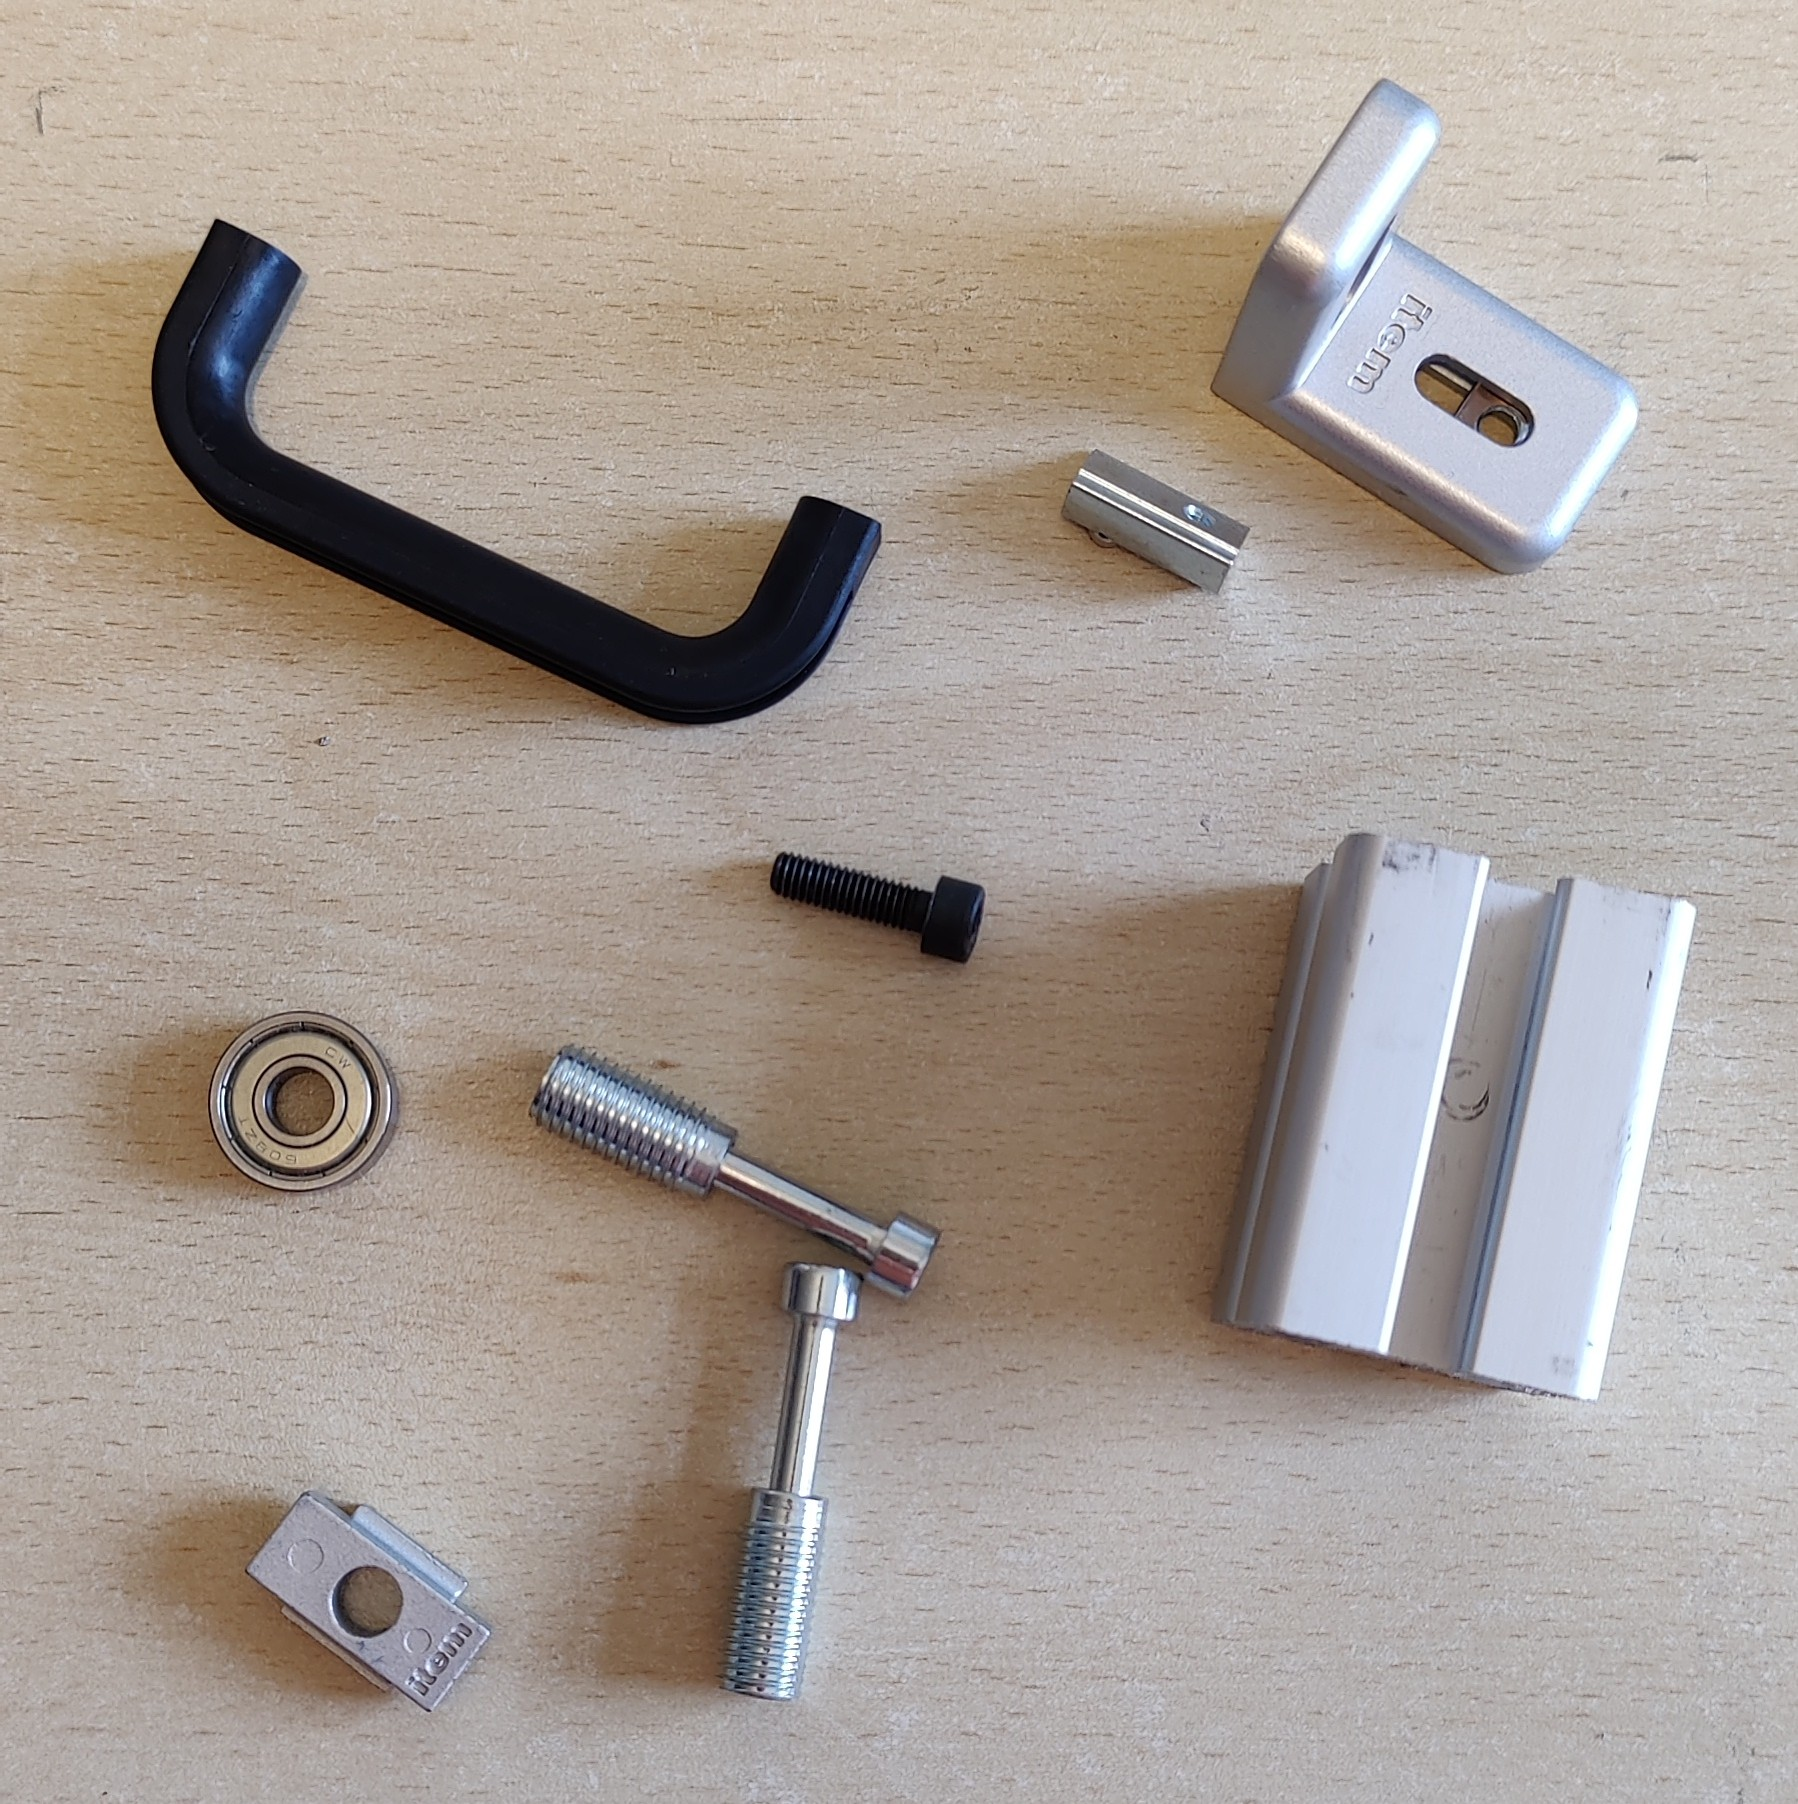Aluminium Extension: (1207, 830, 1699, 1406)
Ball Bearing: (204, 1007, 402, 1197)
Multiwinkel: (1204, 72, 1642, 578)
Pull Handle: (148, 216, 884, 728)
Shoulder Socket Head Cap Screw: (524, 1042, 945, 1307), (715, 1259, 863, 1704)
Socket Head Cap Screw: (766, 848, 990, 966)
T Nut Square: (240, 1485, 499, 1717)
T Spring Nut: (1055, 444, 1255, 597)
